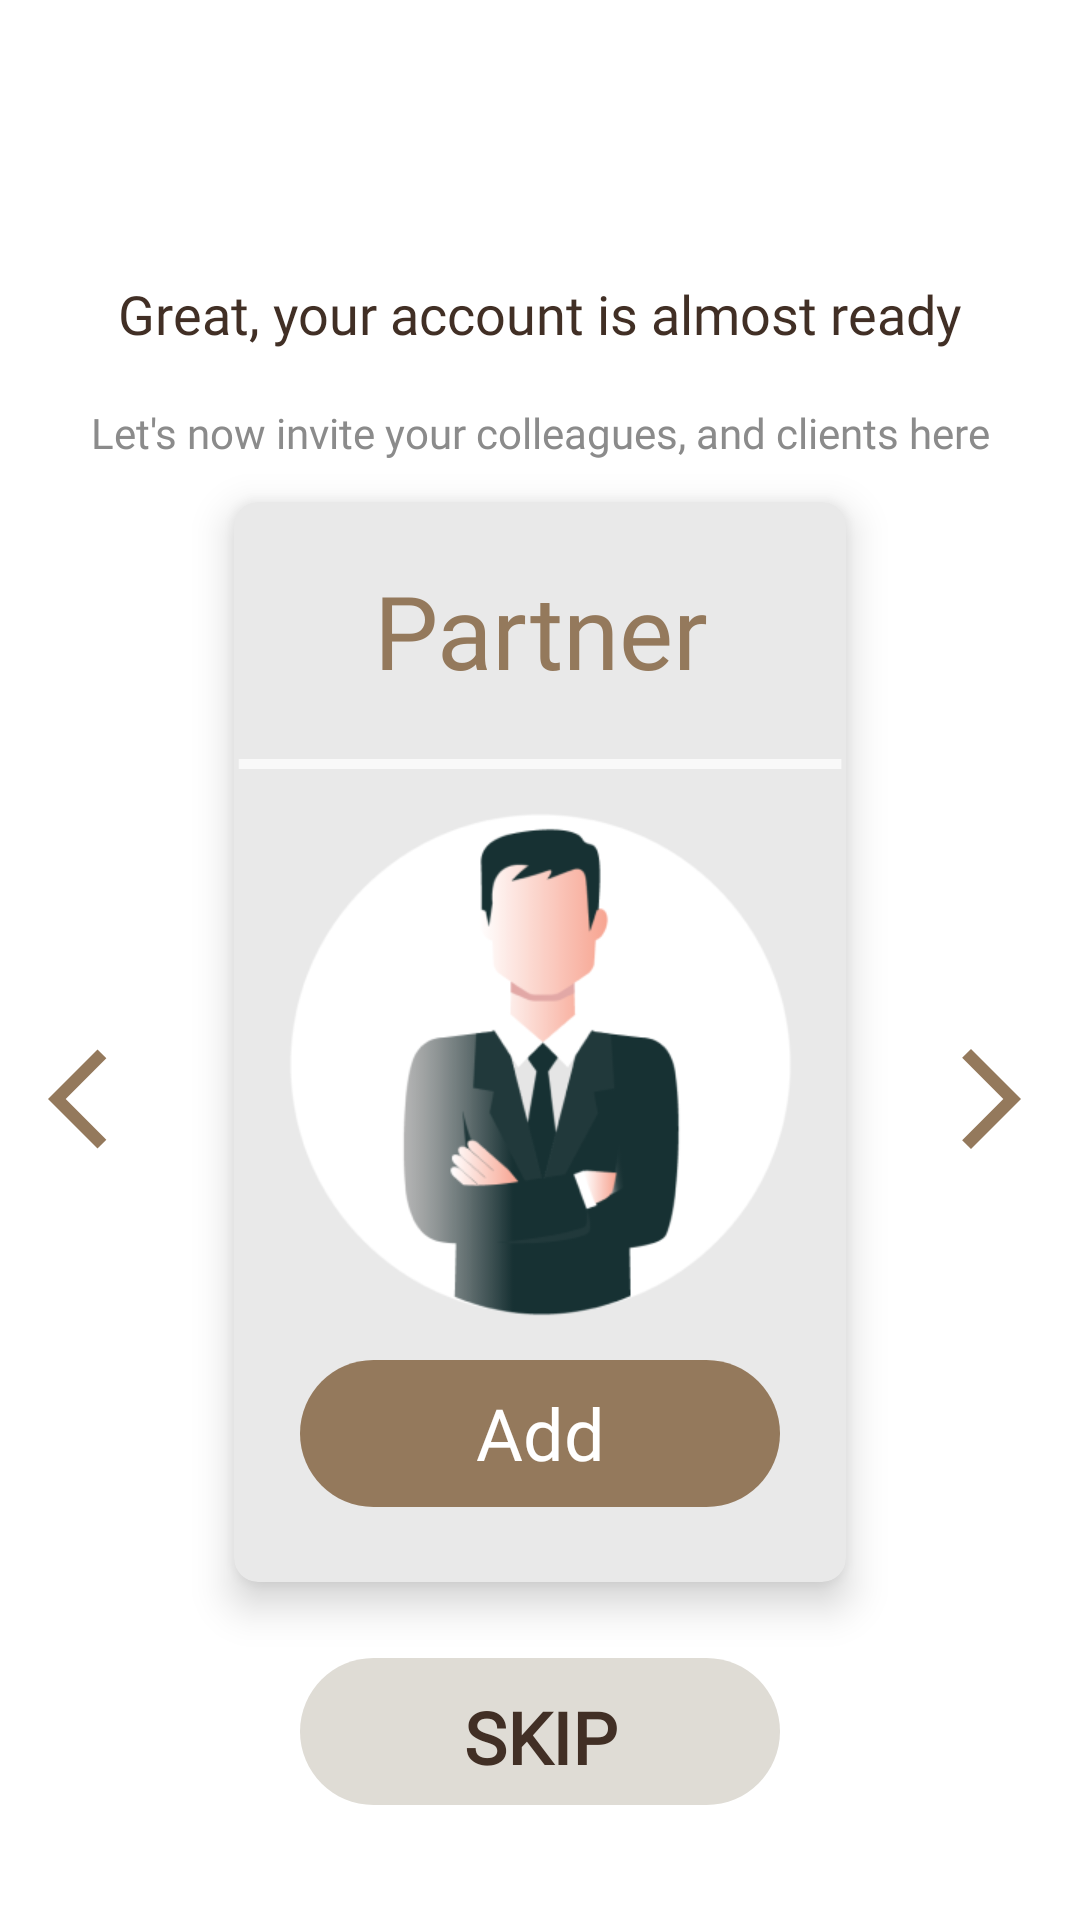

Screen size 1080 x 1920. Icon name, then its center in pixels as point (x, y):
arrow back: point (77, 1099)
arrow forward: point (991, 1099)
